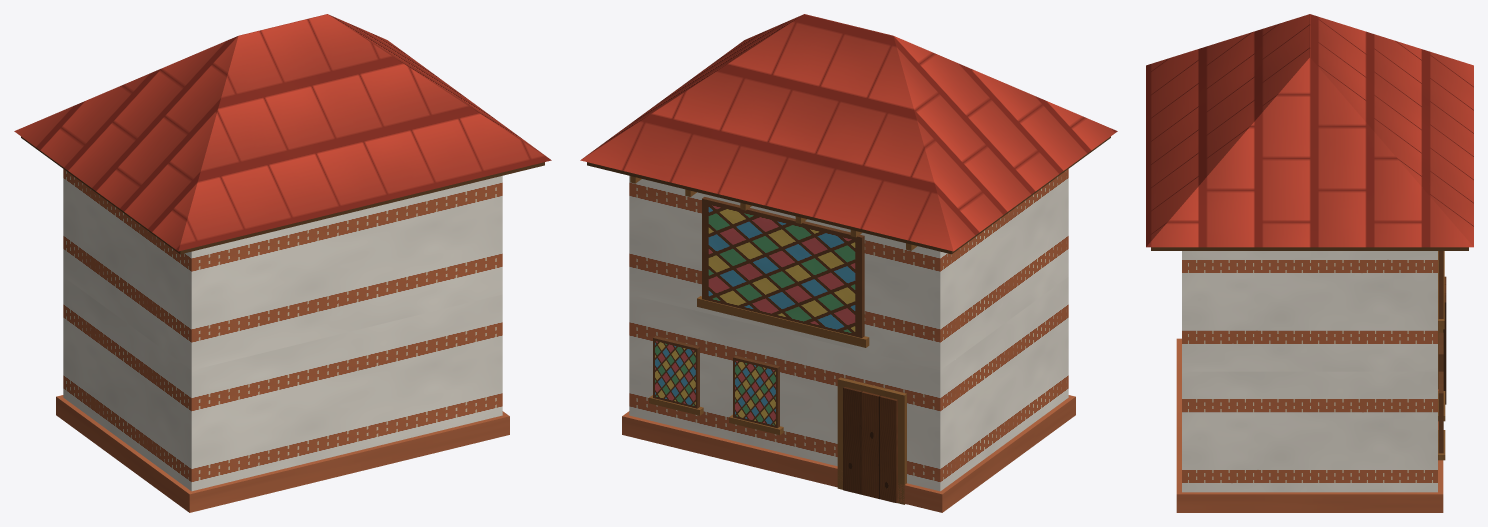
The model's file is env_sheki_house_a.glb.
3 views of the same model, side by side, from view 1: azimuth 30°, elevation 25°; view 2: azimuth 150°, elevation 25°; view 3: azimuth 270°, elevation 25° (orthographic).
Parts seen in each view (by area): view 1: env_sheki_house_a; view 2: env_sheki_house_a; view 3: env_sheki_house_a.
Boxes of the visible parts, x1,y1,x2,y2 form: env_sheki_house_a: [14, 14, 551, 512]; env_sheki_house_a: [580, 14, 1117, 512]; env_sheki_house_a: [1146, 14, 1473, 512].
Size of the model in its own units: 8.4 by 8.63 by 6.4.
Materials: 1 (1 with a texture image).
